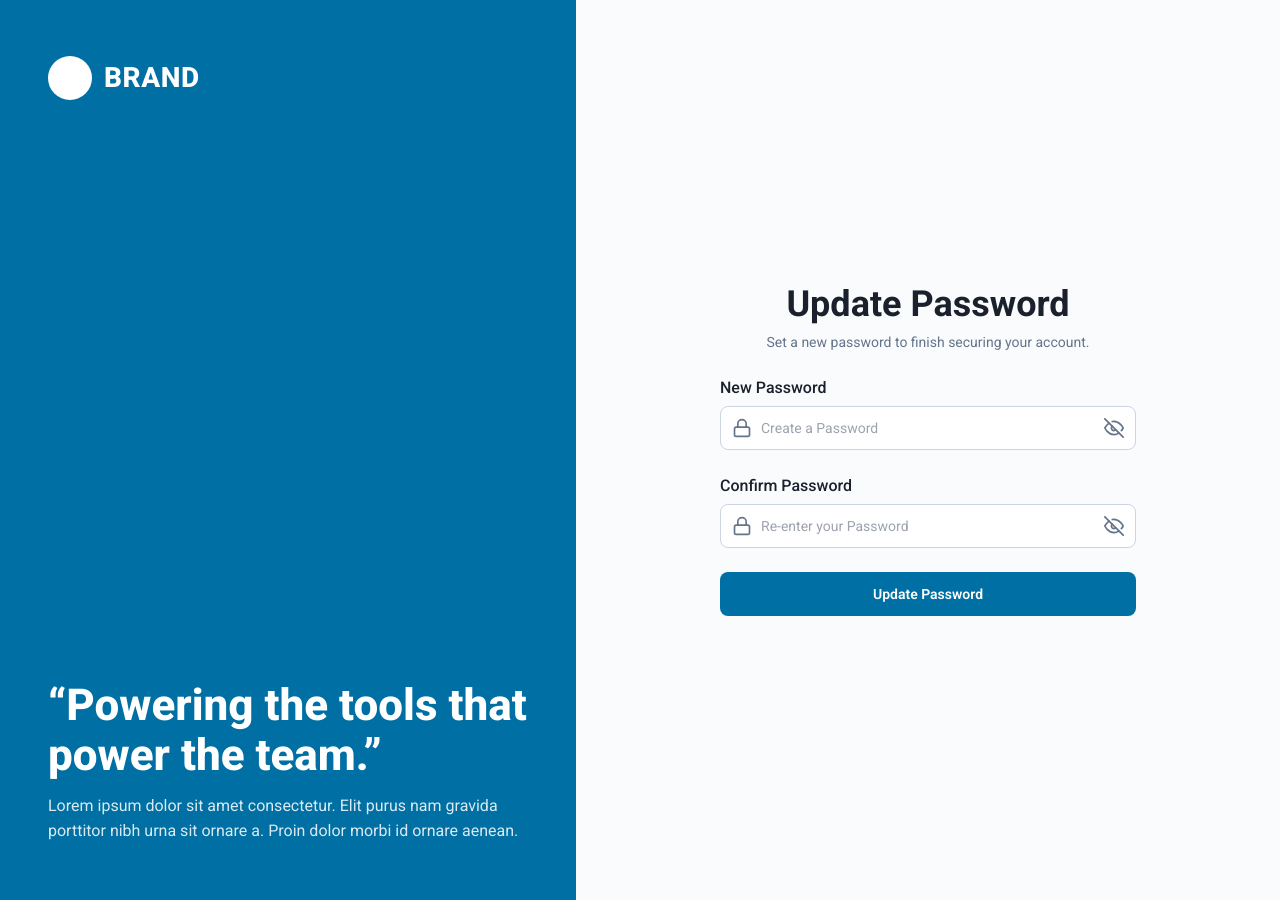
Scenario: ChangePasswordPage › enforces the minimum length on the new password
In the password field with test id "change-password-new": (928, 428) [720, 406, 1136, 450], type "short"
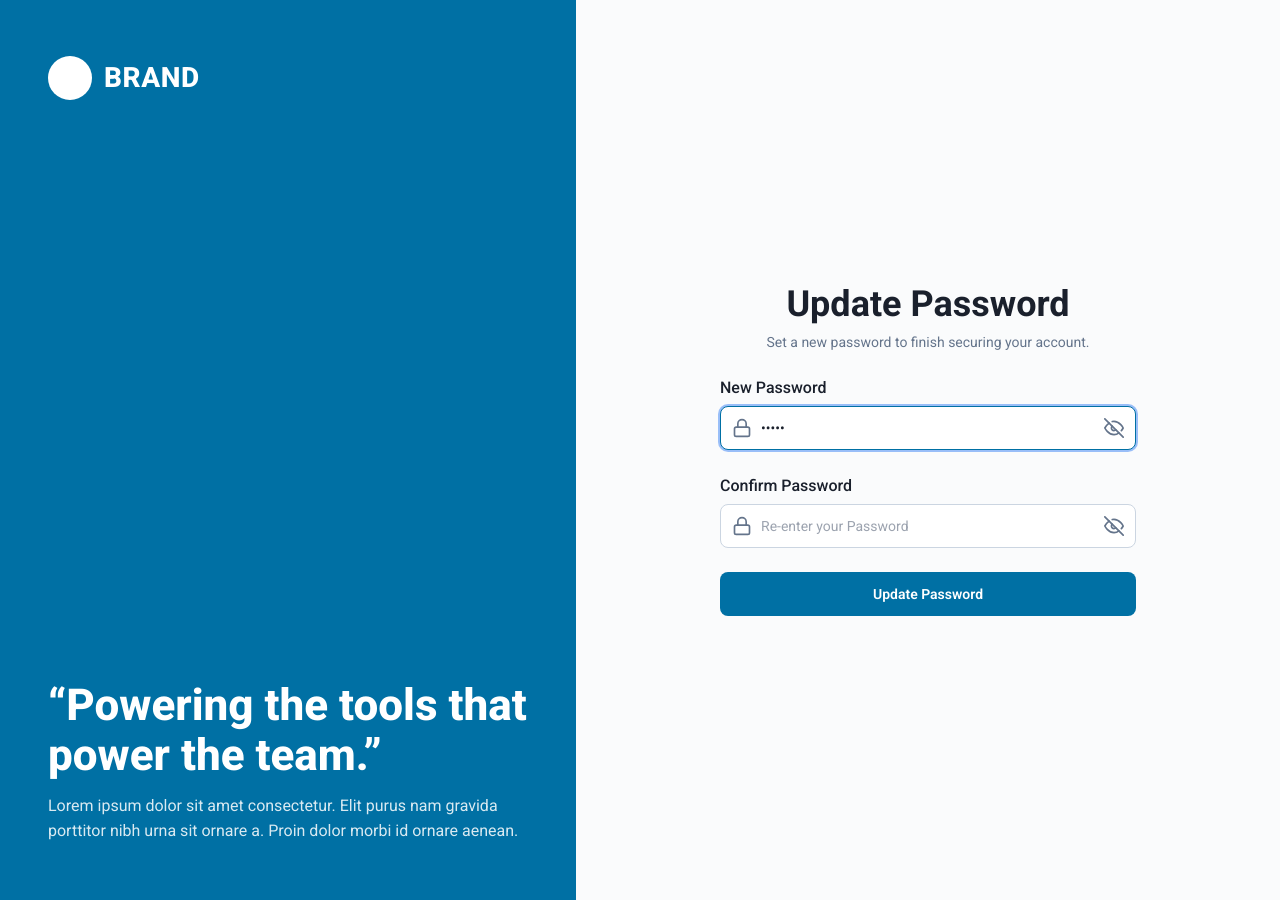
In the password field with test id "change-password-confirm": (928, 526) [720, 504, 1136, 548], type "short"
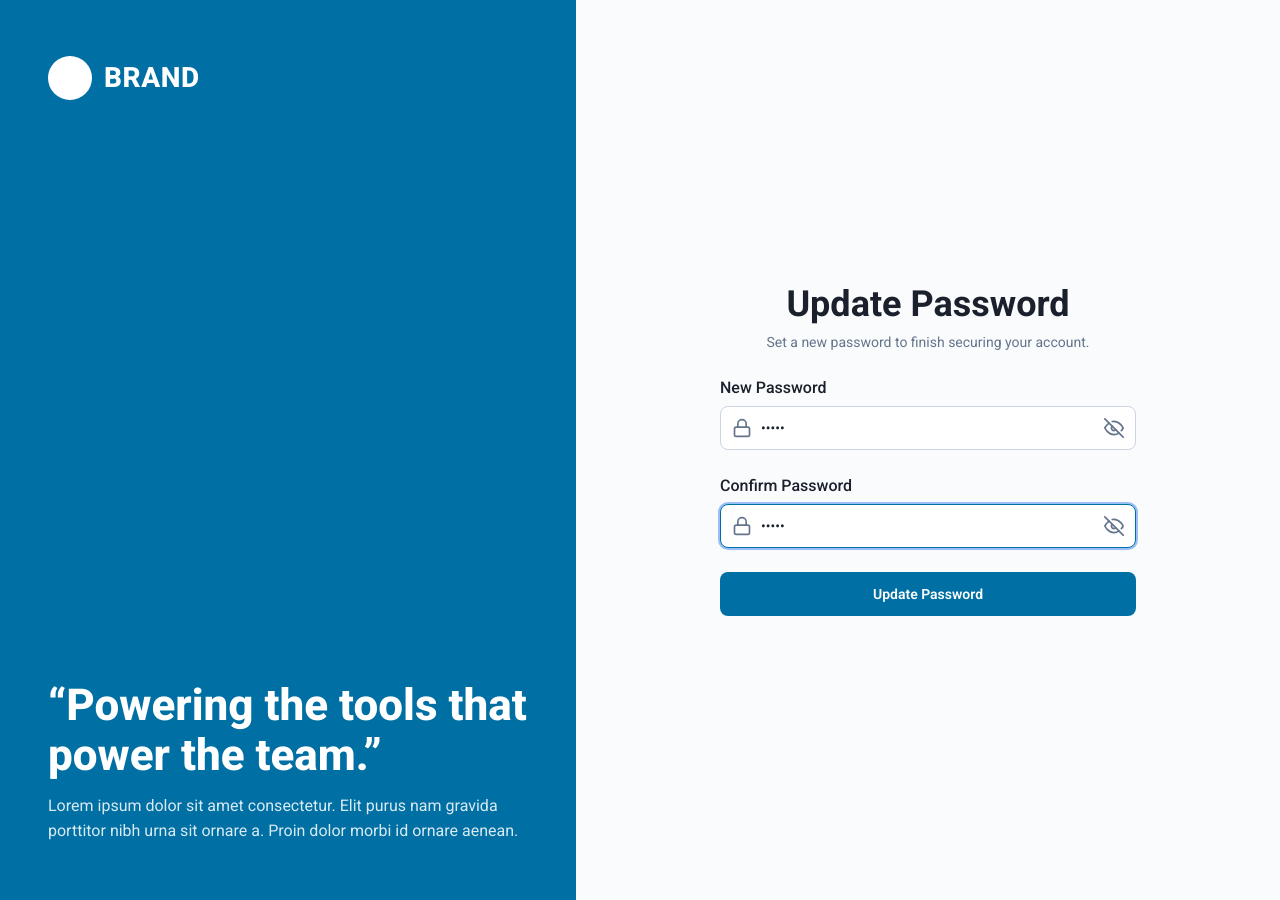
Click the button with test id "change-password-submit": (928, 594) [720, 572, 1136, 616]
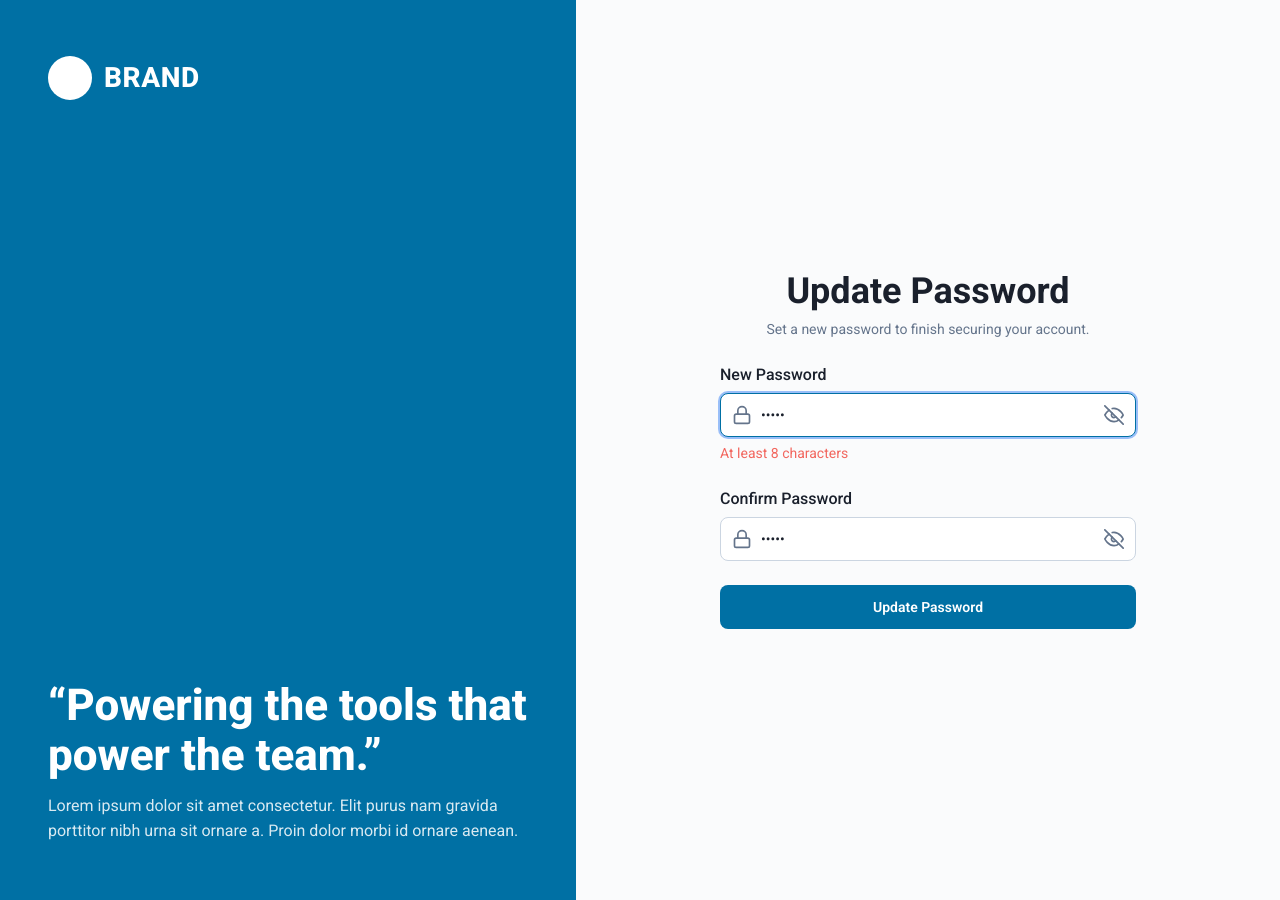
Check: the text with test id "change-password-new-error" shows "8 characters", box [720, 445, 848, 461]
